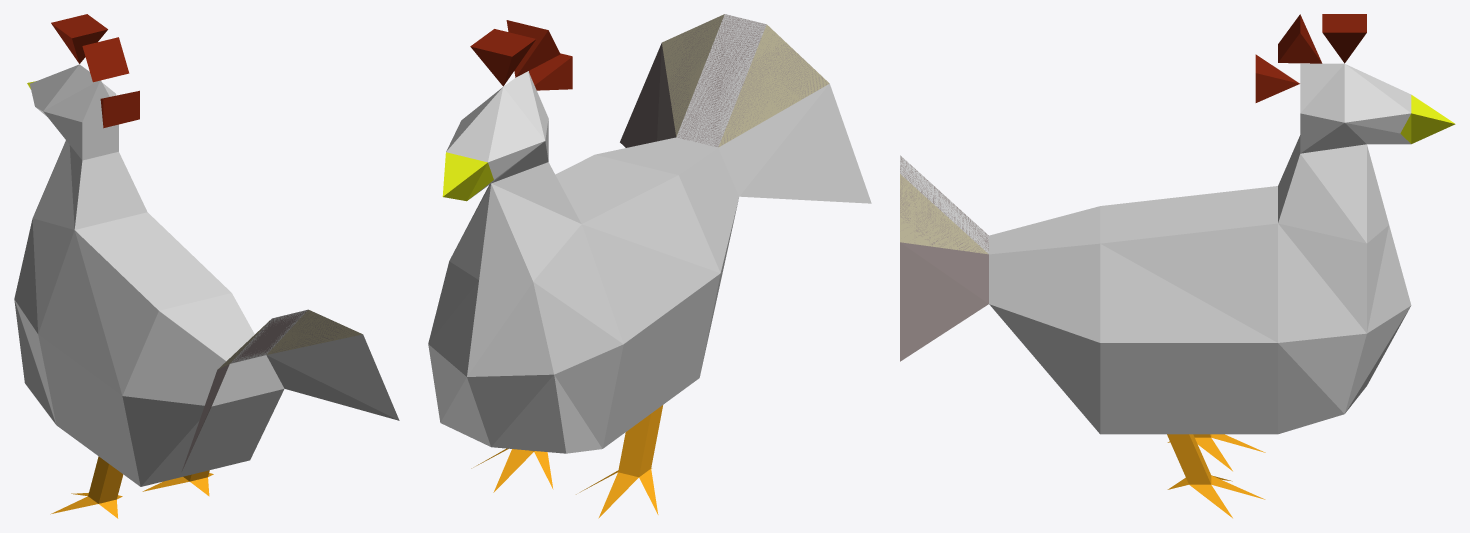
The model's file is npc_world_oomlie_bird_0.obj.
The picture shows the model from 3 angles, left to right: view 1: azimuth 30°, elevation 25°; view 2: azimuth 150°, elevation 25°; view 3: azimuth 270°, elevation 25°; orthographic projection. The views are drawn at different scales.
Size of the model in its own units: 0.1875 by 0.3516 by 0.3906.
